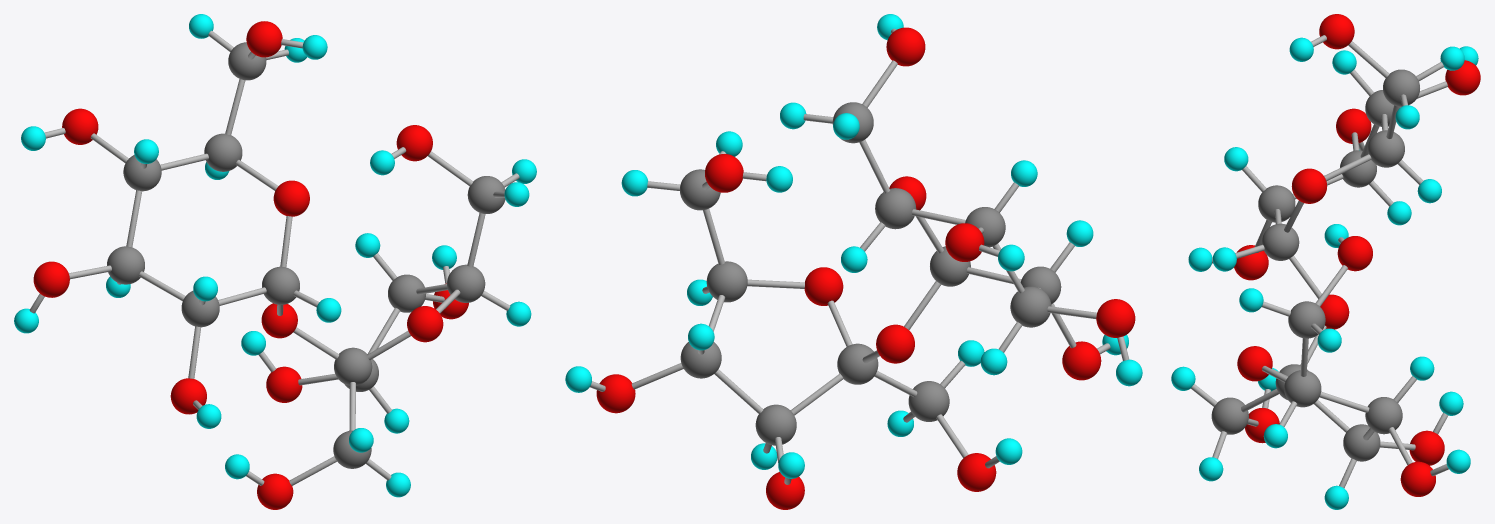
The model's file is sucrose.glb.
3 renders of one model, left to right at view 1: azimuth 30°, elevation 25°; view 2: azimuth 150°, elevation 25°; view 3: azimuth 270°, elevation 25°, orthographic. The views are drawn at different scales.
Parts seen in each view (by area): view 1: CMAtom_5, CMAtom_10, CMAtom_2, CMAtom_6, CMAtom_11, CMAtom_9, CMAtom_13, CMAtom_39, CMAtom_36, CMAtom_35, CMAtom_1, CMAtom_37 (+9 smaller); view 2: CMAtom_6, CMAtom_10, CMAtom_11, CMAtom_7, CMAtom_3, CMAtom_5, CMAtom_32, CMAtom_36, CMAtom_1, CMAtom_40, CMAtom_34, CMAtom_38 (+10 smaller); view 3: CMAtom_9, CMAtom_3, CMAtom_2, CMAtom_10, CMAtom_11, CMAtom_12, CMAtom_13, CMAtom_4, CMAtom_7, CMAtom_39, CMAtom_40, CMAtom_43 (+29 smaller).
Part boxes in pixels (bbox=[...]): CMAtom_5: bbox=[334, 347, 372, 385]; CMAtom_10: bbox=[204, 133, 242, 171]; CMAtom_2: bbox=[262, 266, 299, 304]; CMAtom_6: bbox=[107, 246, 144, 284]; CMAtom_11: bbox=[447, 264, 485, 302]; CMAtom_9: bbox=[388, 274, 425, 312]; CMAtom_13: bbox=[467, 176, 505, 213]; CMAtom_39: bbox=[273, 180, 309, 216]; CMAtom_36: bbox=[33, 261, 69, 297]; CMAtom_35: bbox=[407, 306, 443, 342]; CMAtom_1: bbox=[246, 21, 282, 57]; CMAtom_37: bbox=[266, 366, 302, 402]; CMAtom_6: bbox=[1010, 286, 1051, 327]; CMAtom_10: bbox=[875, 188, 916, 229]; CMAtom_11: bbox=[706, 261, 747, 302]; CMAtom_7: bbox=[755, 404, 796, 445]; CMAtom_3: bbox=[908, 381, 949, 421]; CMAtom_5: bbox=[837, 343, 878, 384]; CMAtom_32: bbox=[876, 324, 914, 363]; CMAtom_36: bbox=[1096, 299, 1135, 337]; CMAtom_1: bbox=[886, 27, 925, 66]; CMAtom_40: bbox=[705, 154, 743, 192]; CMAtom_34: bbox=[1062, 341, 1101, 380]; CMAtom_38: bbox=[945, 223, 984, 261]; CMAtom_9: bbox=[1365, 397, 1402, 434]; CMAtom_3: bbox=[1211, 397, 1248, 434]; CMAtom_2: bbox=[1262, 223, 1299, 260]; CMAtom_10: bbox=[1367, 130, 1404, 167]; CMAtom_11: bbox=[1284, 370, 1321, 407]; CMAtom_12: bbox=[1383, 69, 1419, 106]; CMAtom_13: bbox=[1288, 301, 1325, 338]; CMAtom_4: bbox=[1258, 185, 1295, 222]; CMAtom_7: bbox=[1343, 424, 1380, 461]; CMAtom_39: bbox=[1291, 168, 1327, 203]; CMAtom_40: bbox=[1337, 236, 1372, 271]; CMAtom_43: bbox=[1400, 461, 1435, 496].
Size of the model in its own units: 9.31 by 8 by 5.11.
